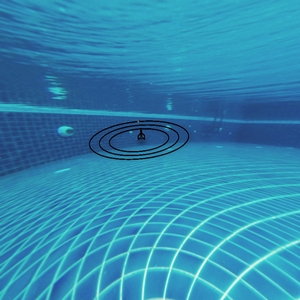circle: (88, 115, 195, 159)
submarine: (136, 127, 147, 139)
